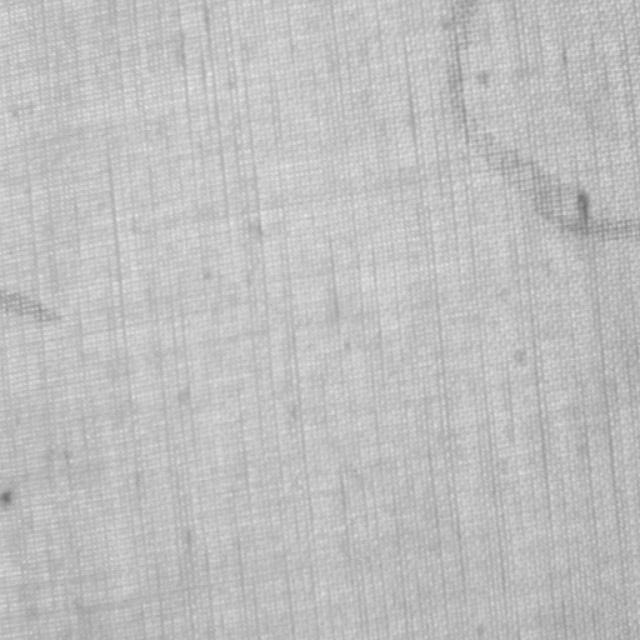oil spot: (432, 0, 639, 245), (0, 281, 67, 329)
